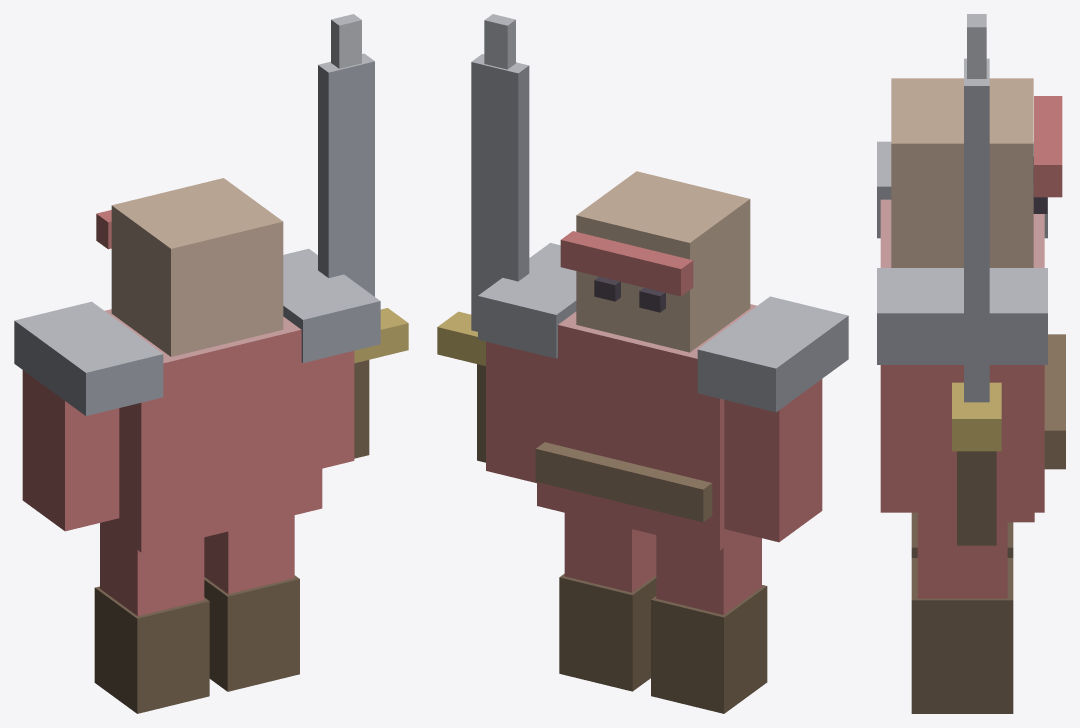
Rendered from hero_melee.glb.
3 renders of one model, left to right at view 1: azimuth 30°, elevation 25°; view 2: azimuth 150°, elevation 25°; view 3: azimuth 270°, elevation 25°, orthographic. The views are drawn at different scales.
Parts seen in each view (by area): view 1: mesh0; view 2: mesh0; view 3: mesh0.
Part boxes in pixels (x1=…): mesh0: x1=14, y1=14, x2=408, y2=713; mesh0: x1=437, y1=14, x2=848, y2=713; mesh0: x1=877, y1=14, x2=1065, y2=713.
Bounding box in the file's own units: 0.685 × 1.14 × 0.265.
